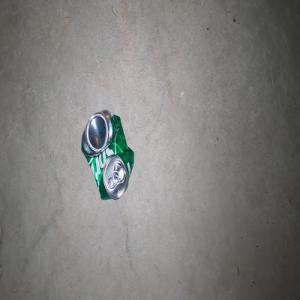SodaCan: (81, 109, 134, 200)
